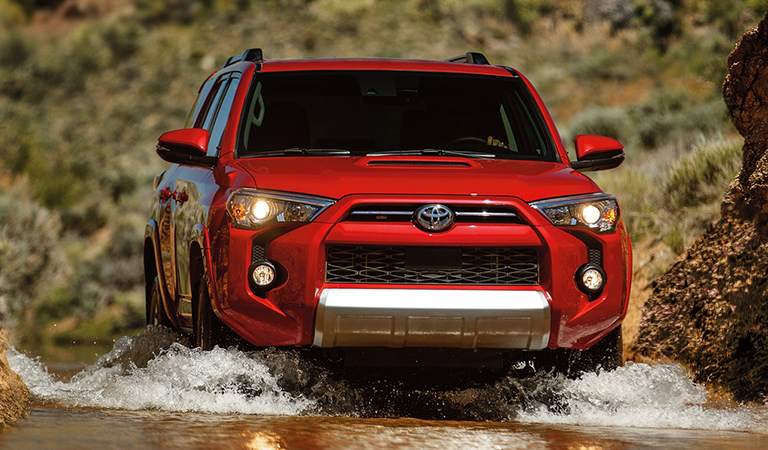car: (141, 48, 633, 373)
